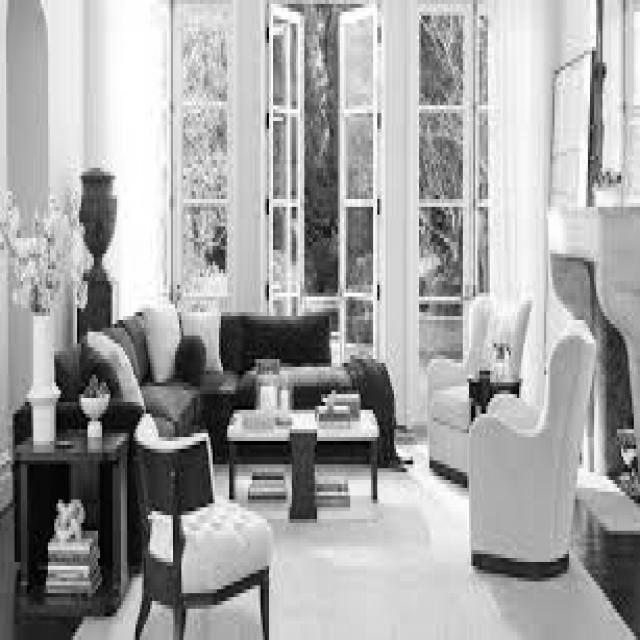chair: (466, 318, 600, 580), (132, 412, 270, 640), (424, 293, 532, 472)
